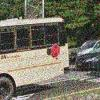buses: (0, 14, 70, 100)
